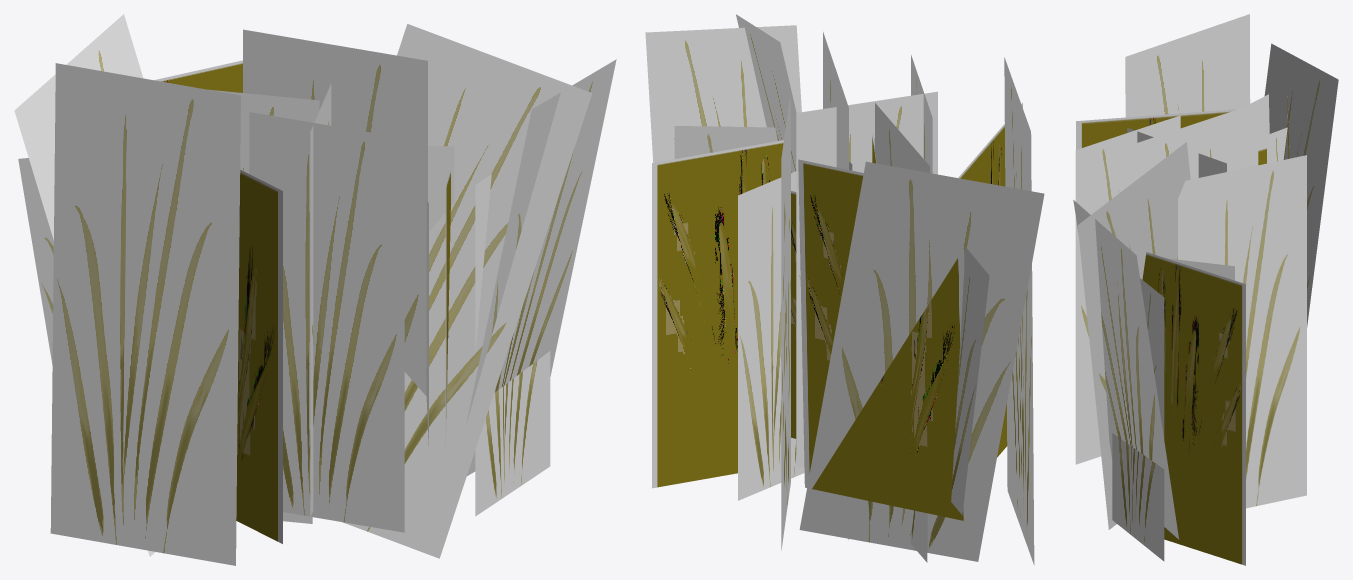
File: co heo.fbx
The picture shows the model from 3 angles, left to right: view 1: azimuth 30°, elevation 25°; view 2: azimuth 150°, elevation 25°; view 3: azimuth 270°, elevation 25°; orthographic projection. The views are drawn at different scales.
Parts seen in each view (by area): view 1: Plane.112; view 2: Plane.112; view 3: Plane.112.
Part boxes in pixels (box(x1,y1,x2,y2)): Plane.112: box(14, 14, 616, 565); Plane.112: box(645, 14, 1044, 565); Plane.112: box(1073, 14, 1338, 565).
Size of the model in its own units: 50.96 by 47.3 by 28.36.
